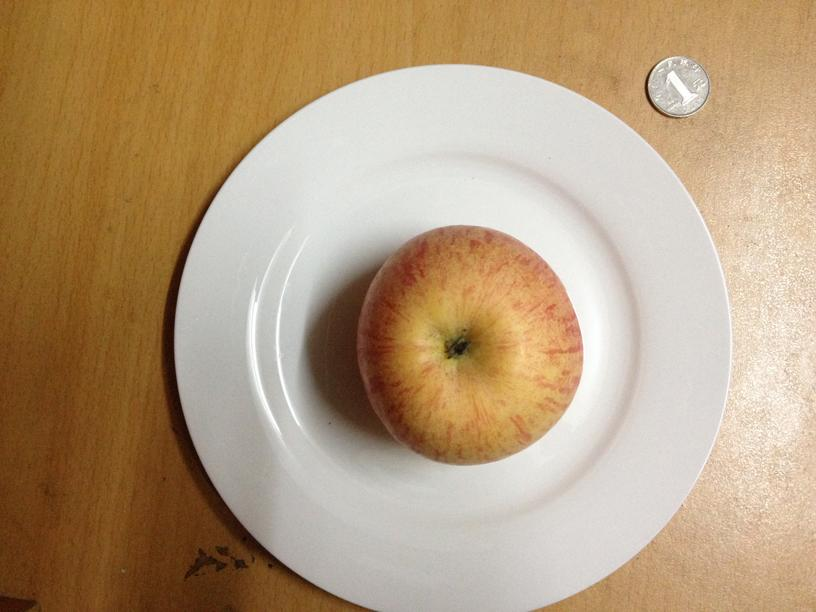apple: (361, 226, 583, 464)
coin: (645, 56, 710, 116)
